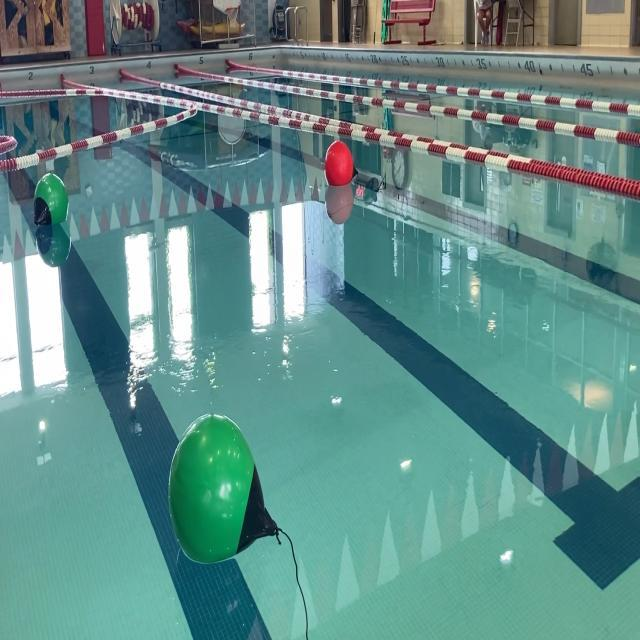buoy: (166, 412, 280, 565), (32, 167, 68, 234), (324, 140, 359, 191)
